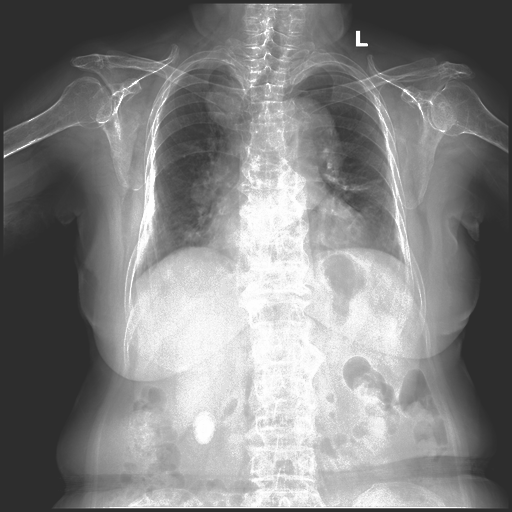Consolidation: (282, 96, 338, 159)
Nodule/Mass: (209, 217, 373, 260)
Other lesion: (236, 61, 278, 139), (201, 74, 250, 130), (185, 174, 217, 204)
Pleural thickening: (203, 82, 244, 131), (194, 155, 232, 207)
Pneumothorax: (333, 177, 381, 193)
Pulmonary fibrosis: (201, 74, 250, 130), (189, 177, 216, 203)
